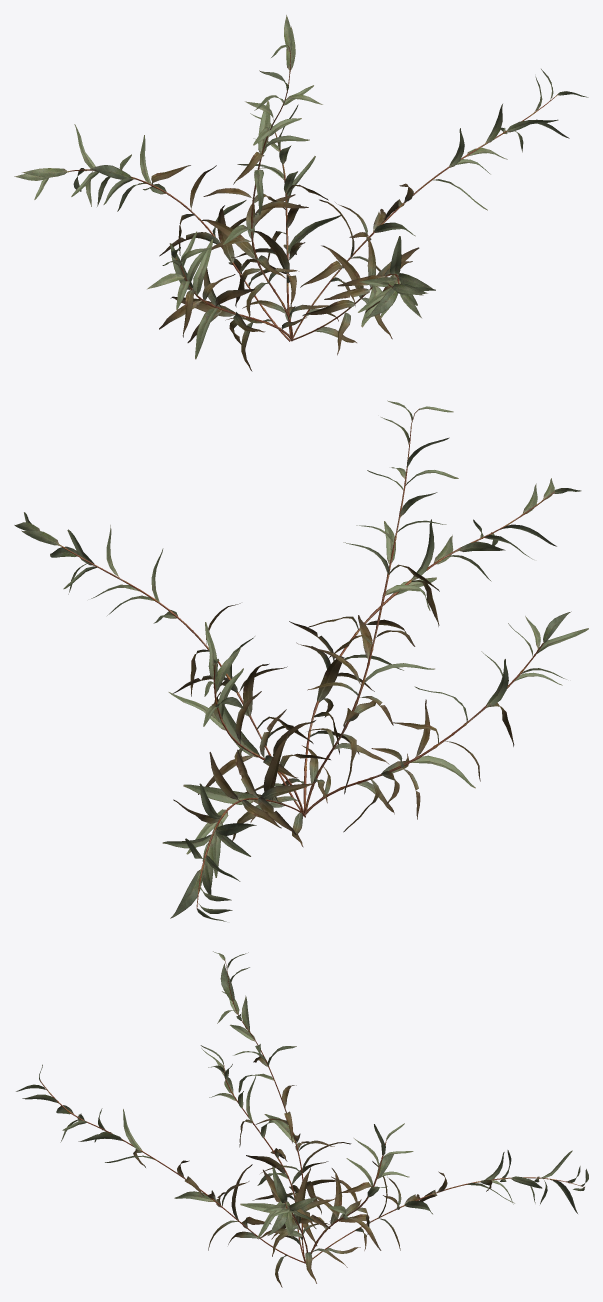
File: arbusto_mata_a.glb
3 renders of one model, top to bottom at view 1: azimuth 30°, elevation 25°; view 2: azimuth 150°, elevation 25°; view 3: azimuth 270°, elevation 25°, orthographic. The views are drawn at different scales.
Visible parts, largest first — view 1: shrub_02_c; view 2: shrub_02_c; view 3: shrub_02_c.
Part boxes in pixels (<box>): shrub_02_c: <box>14,15,588,371</box>; shrub_02_c: <box>14,400,588,921</box>; shrub_02_c: <box>16,951,588,1287</box>.
Size of the model in its own units: 1.77 by 1.31 by 2.29.
1 material, 1 textured.
